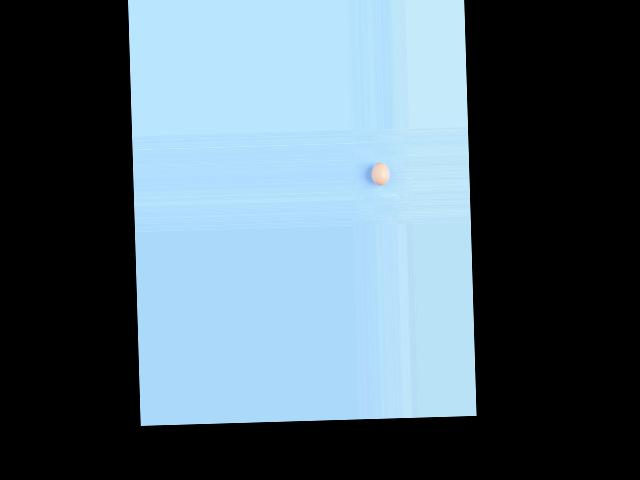egg: (370, 162, 390, 185)
